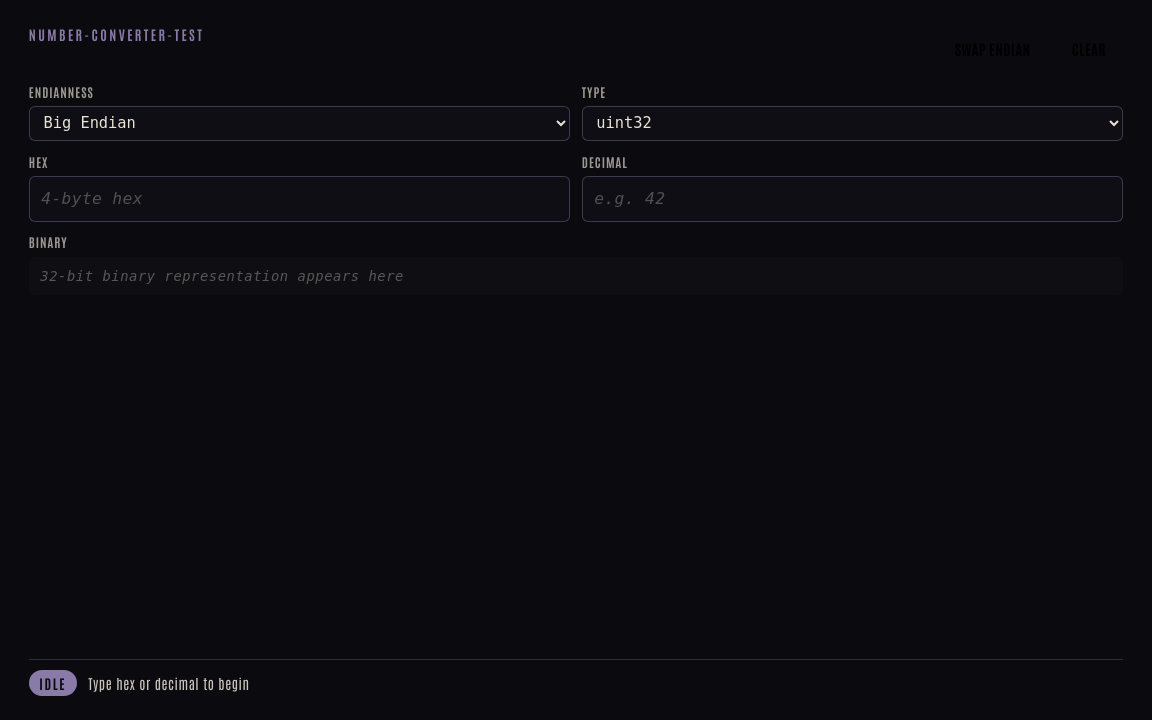
Test case: NumberConverter › typing hex derives the decimal field (uint32 BE default)
Type "12345678" into the field named "Hex value input".
click(300, 199); type("12345678")  # box top-left (29, 176), bottom-right (570, 222)
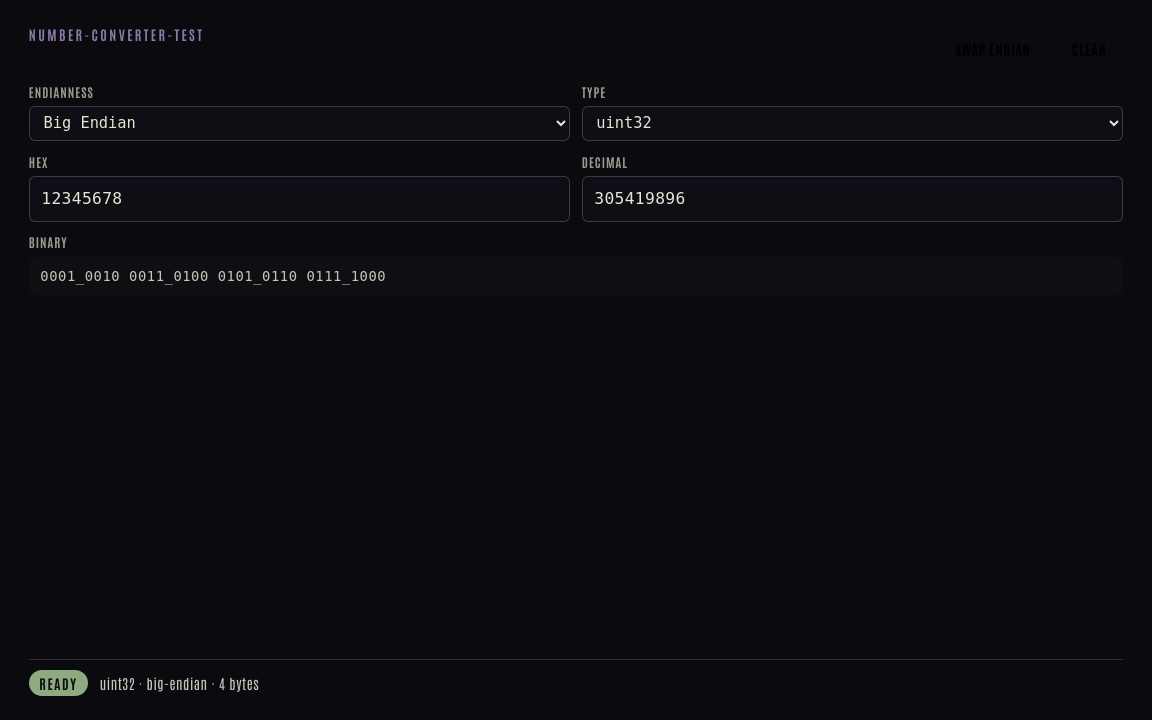
Check: the field named "Decimal value input" holds "305419896", box top-left (582, 176), bottom-right (1123, 222)
Check: the text "Ready" is shown, box top-left (29, 670), bottom-right (88, 696)
